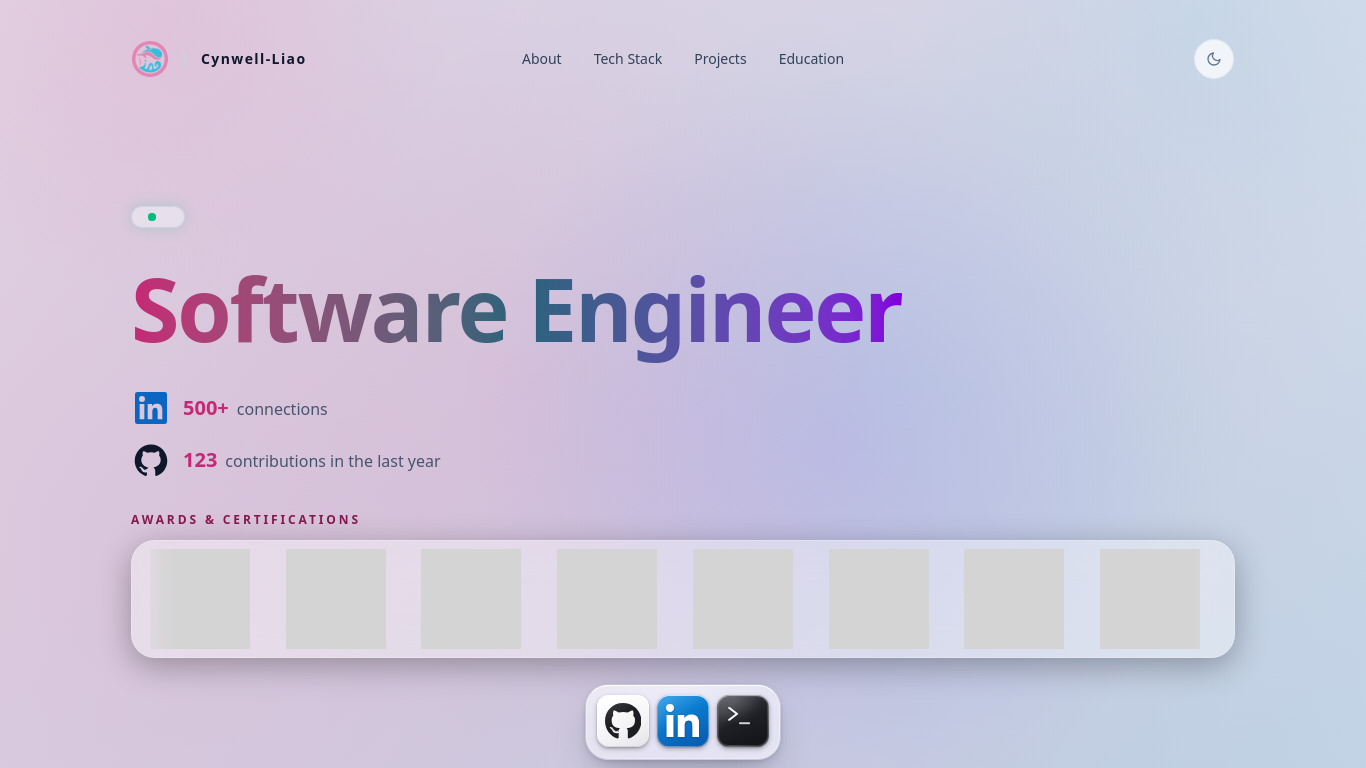
Test: App › opens the floating terminal from the Dock
Click the button named "Terminal" at (743, 721), box [717,695,769,747]
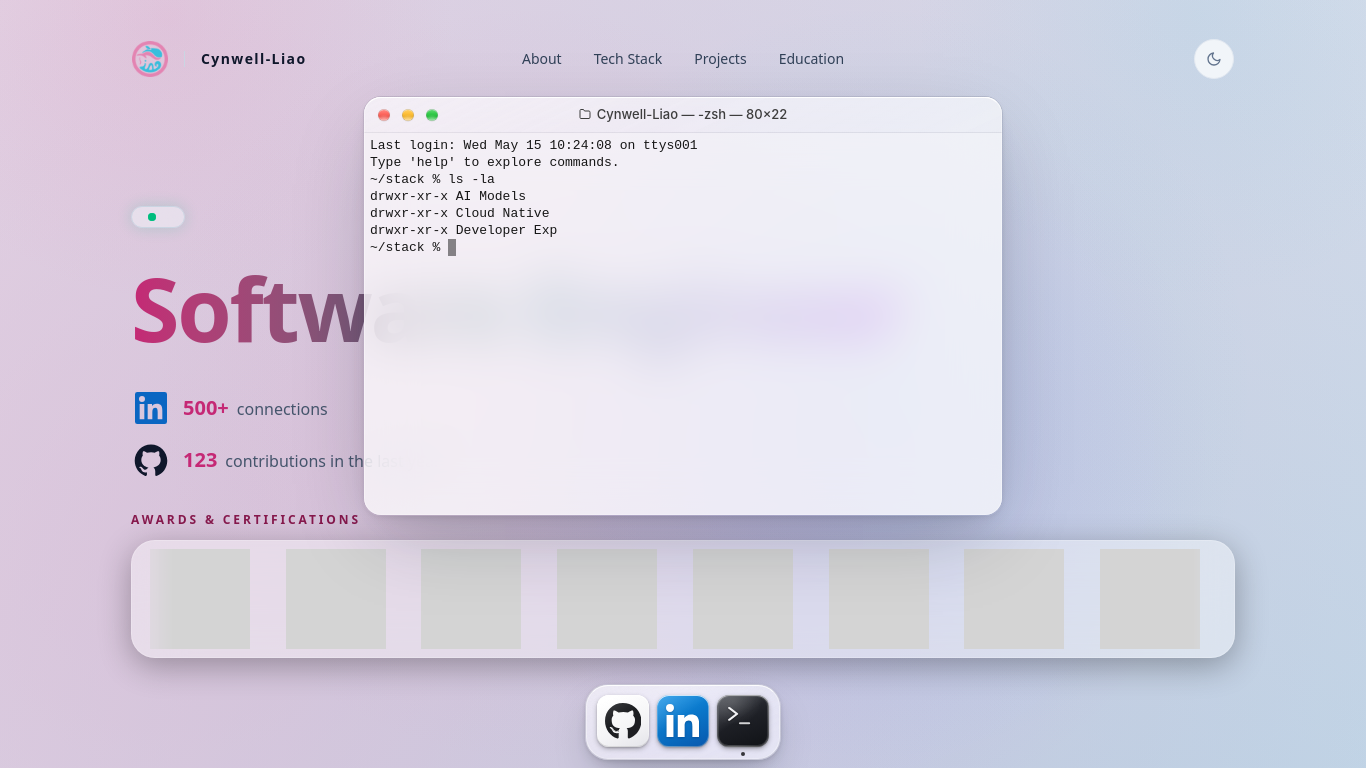
Now the dialog named "Terminal" is shown, box [363,96,1003,516]
Press Escape
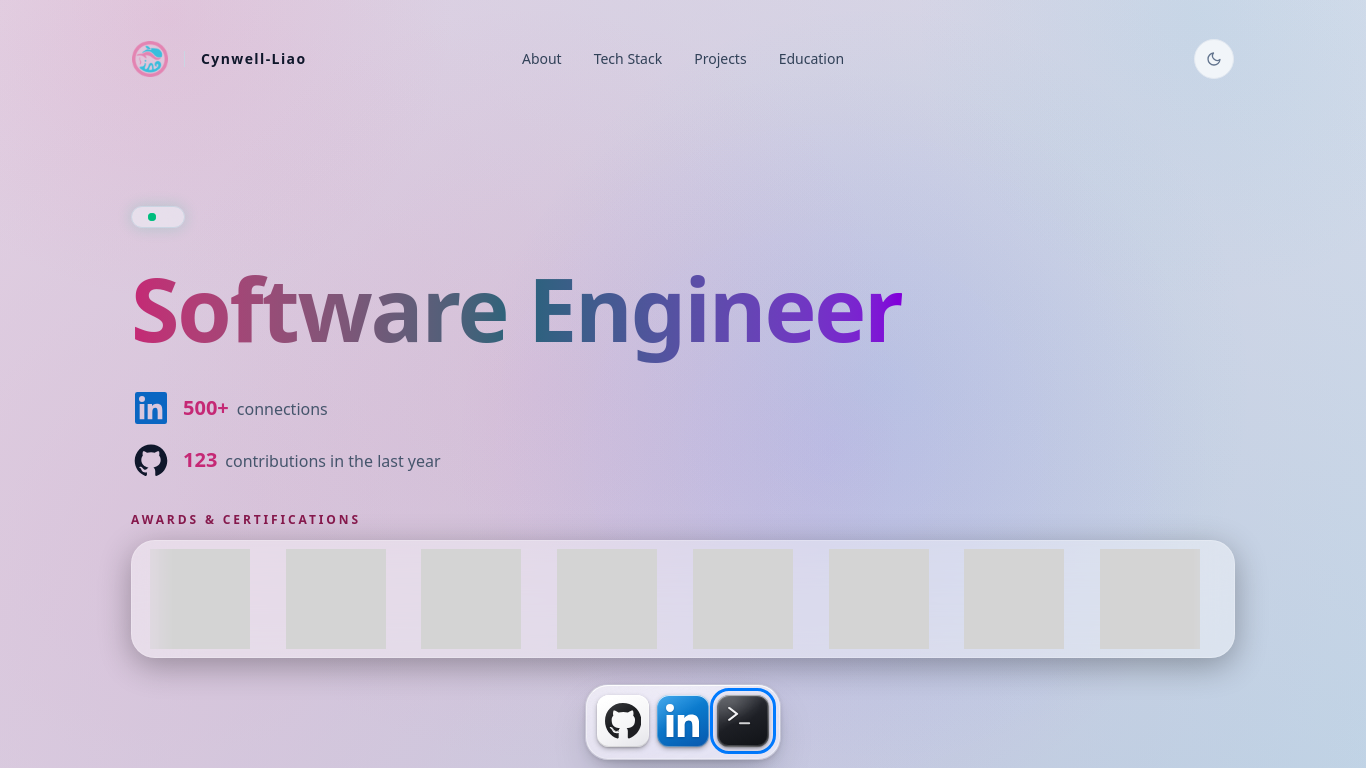
Now the dialog is gone
